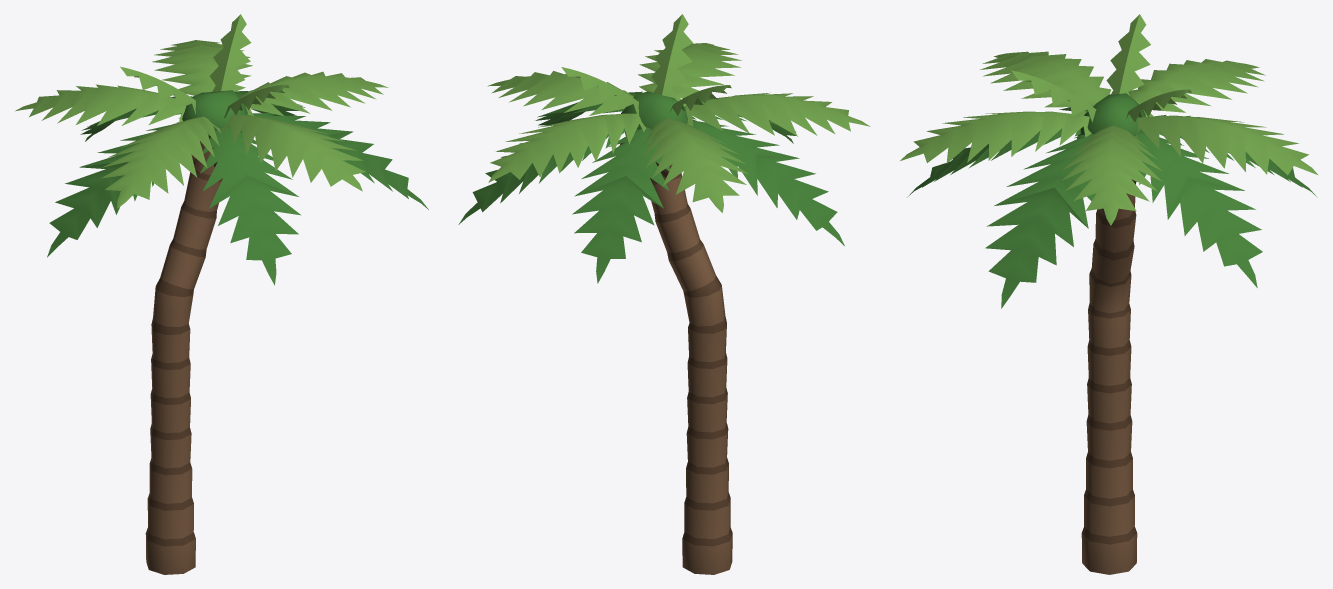
File: palm_c.glb
3 renders of one model, left to right at view 1: azimuth 30°, elevation 25°; view 2: azimuth 150°, elevation 25°; view 3: azimuth 270°, elevation 25°, orthographic. The views are drawn at different scales.
Parts seen in each view (by area): view 1: body; view 2: body; view 3: body.
Part boxes in pixels (x1,y1,x2,y2): body: [15, 14, 428, 574]; body: [458, 14, 870, 574]; body: [900, 14, 1317, 574].
Bounding box in the file's own units: 3.33 × 4.51 × 3.24.
